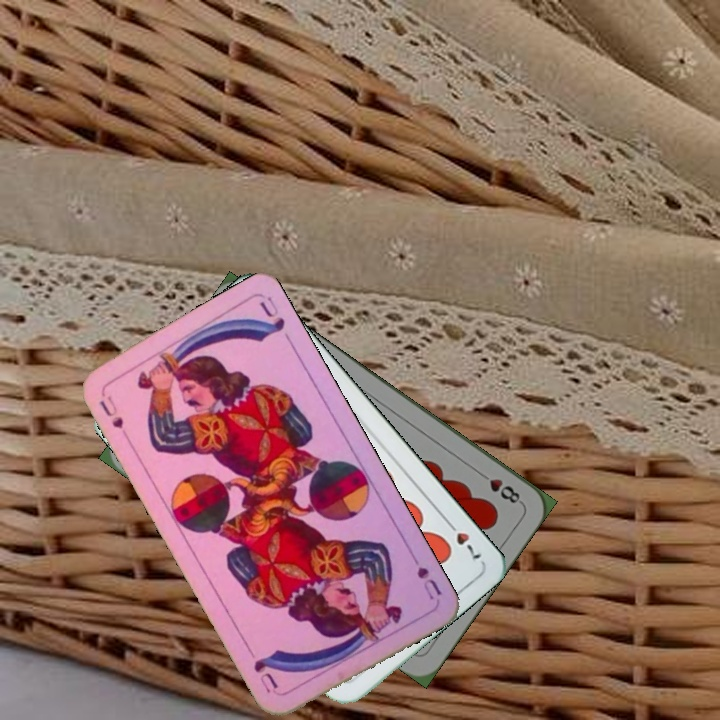H7: (440, 515, 484, 562)
H8: (473, 467, 525, 507)
SU: (405, 547, 445, 603), (95, 392, 132, 443)
